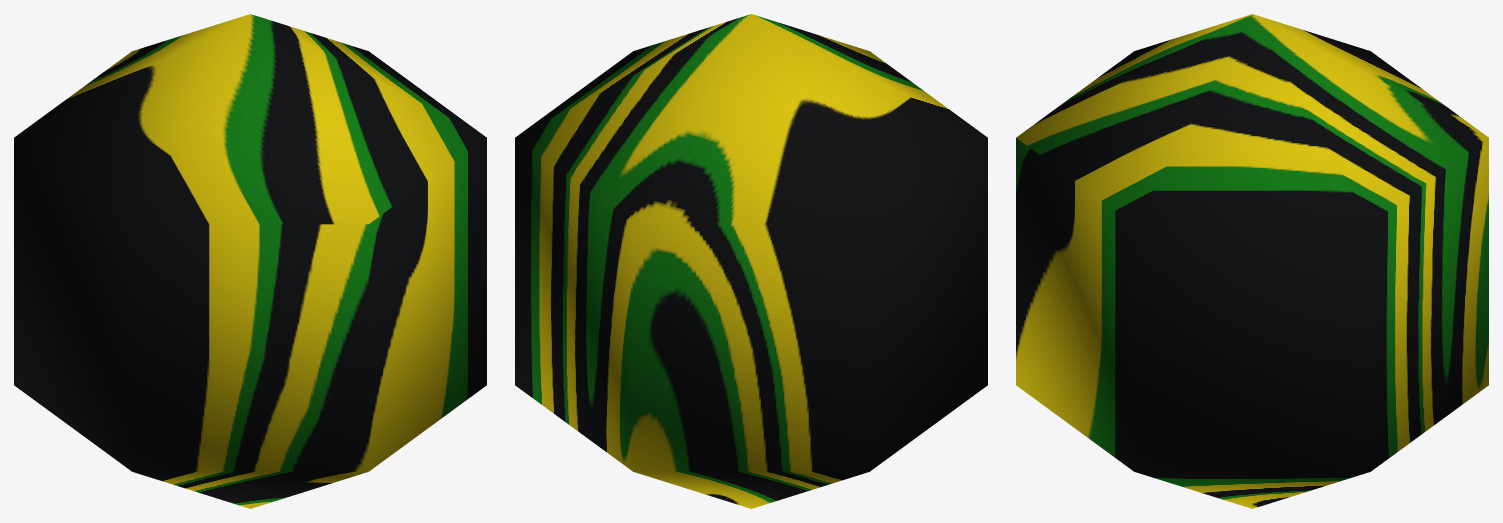
File: iguanamarble_shooter.DAE
3 views of the same model, side by side, from view 1: azimuth 30°, elevation 25°; view 2: azimuth 150°, elevation 25°; view 3: azimuth 270°, elevation 25° (orthographic).
Parts seen in each view (by area): view 1: Shooter_G; view 2: Shooter_G; view 3: Shooter_G.
Part boxes in pixels (x1,y1,x2,y2): Shooter_G: (14, 14, 486, 508); Shooter_G: (515, 14, 987, 508); Shooter_G: (1016, 14, 1488, 508).
Size of the model in its own units: 0.0381 by 0.044 by 0.0508.
Materials: 1 (1 with a texture image).
